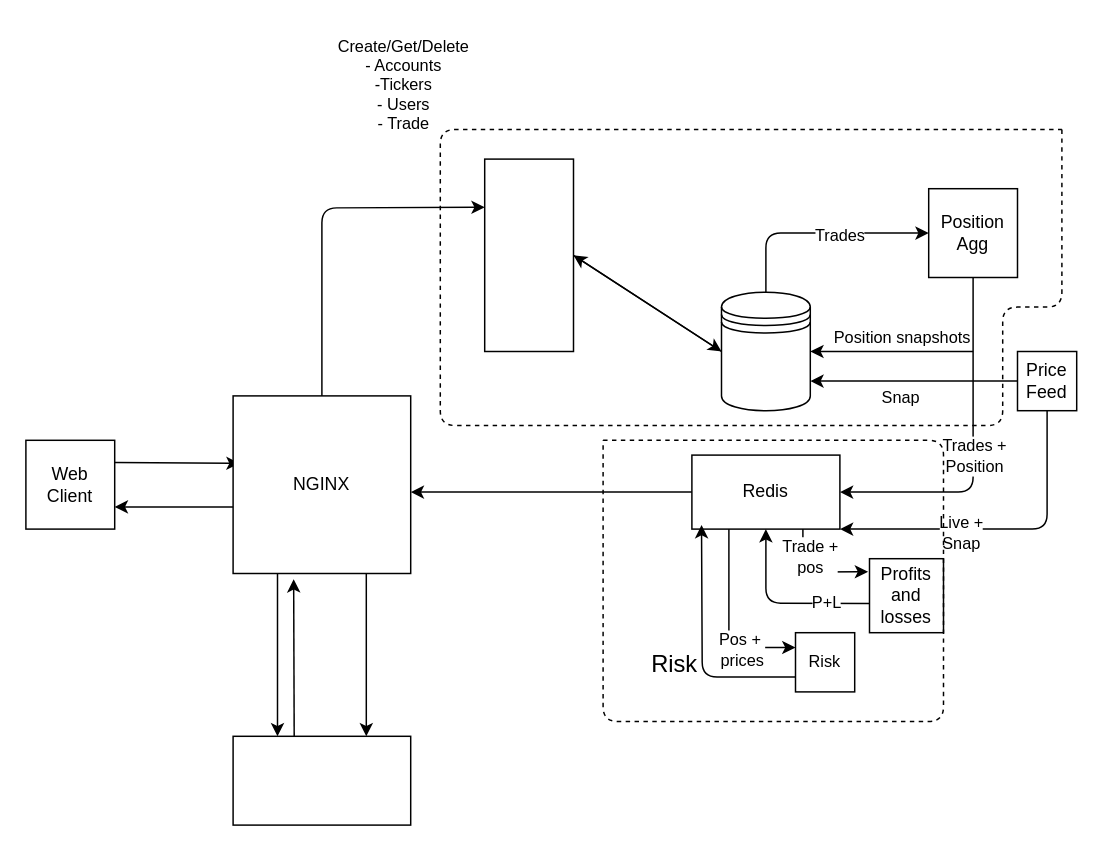
The diagram is 1103 pixels wide and 851 high, and some of its shapes have lost their labels. The box of each missing label's shape, as (x1, y1, x2, y2) in pixels:
Mongo: (720, 291, 810, 411)
REST FastAPI ----------: (483, 158, 574, 352)
Streamlit: (232, 735, 411, 825)
